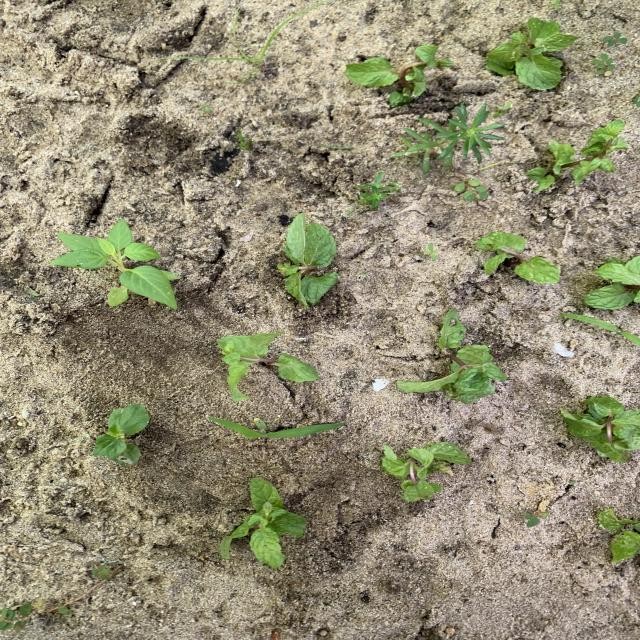crop: (398, 309, 506, 403), (222, 478, 306, 567), (527, 120, 627, 190), (219, 333, 319, 399), (347, 45, 452, 106), (486, 19, 577, 88), (278, 215, 337, 306), (560, 396, 639, 462), (383, 442, 471, 501), (476, 232, 559, 282), (94, 405, 150, 466), (586, 257, 639, 310), (598, 509, 639, 563)
weed: (51, 220, 179, 309), (217, 1, 329, 75), (393, 102, 504, 173), (209, 418, 344, 438), (561, 314, 639, 343), (359, 173, 399, 207), (1, 604, 32, 630), (455, 178, 487, 199), (232, 8, 243, 53), (592, 53, 615, 73), (524, 512, 550, 527), (602, 33, 627, 45), (238, 131, 252, 150), (492, 103, 511, 116), (424, 244, 436, 259), (200, 104, 211, 114), (27, 289, 39, 295), (552, 1, 559, 7), (346, 211, 350, 215)
